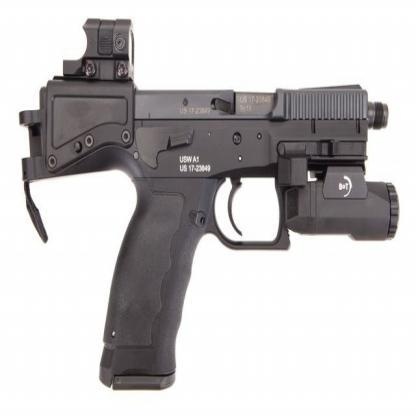Pistol: (19, 15, 399, 391)
